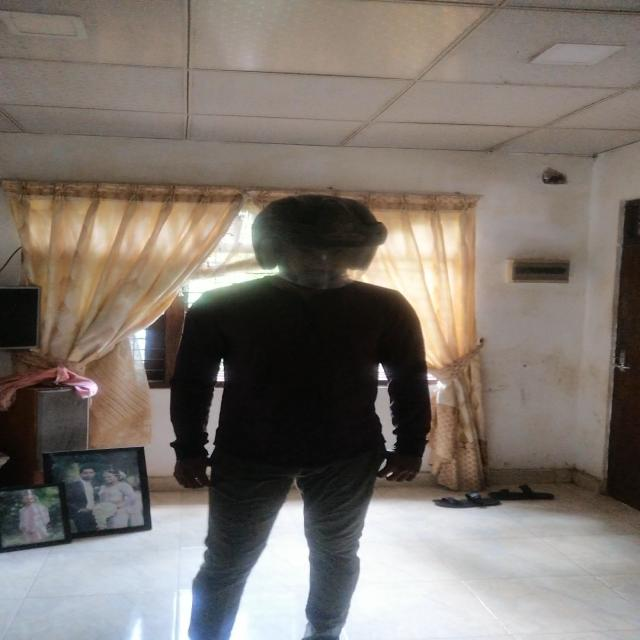Helmet_Wearer: (208, 195, 391, 297)
Person: (178, 194, 430, 617)
